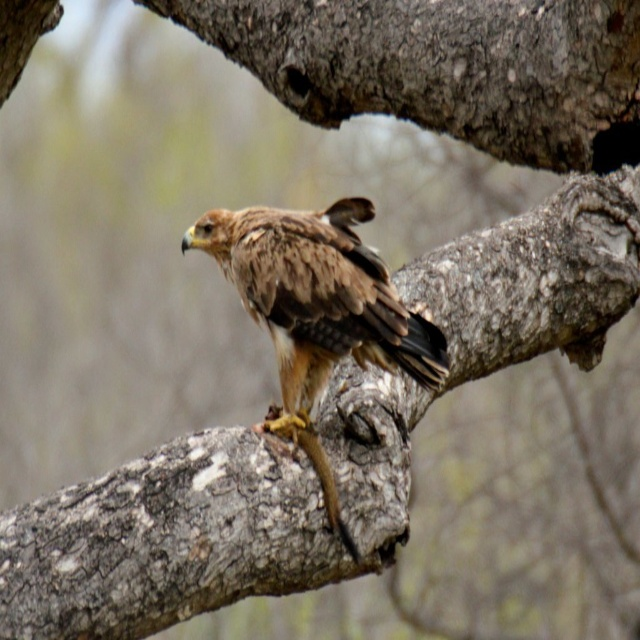Eagle: (182, 192, 453, 451)
